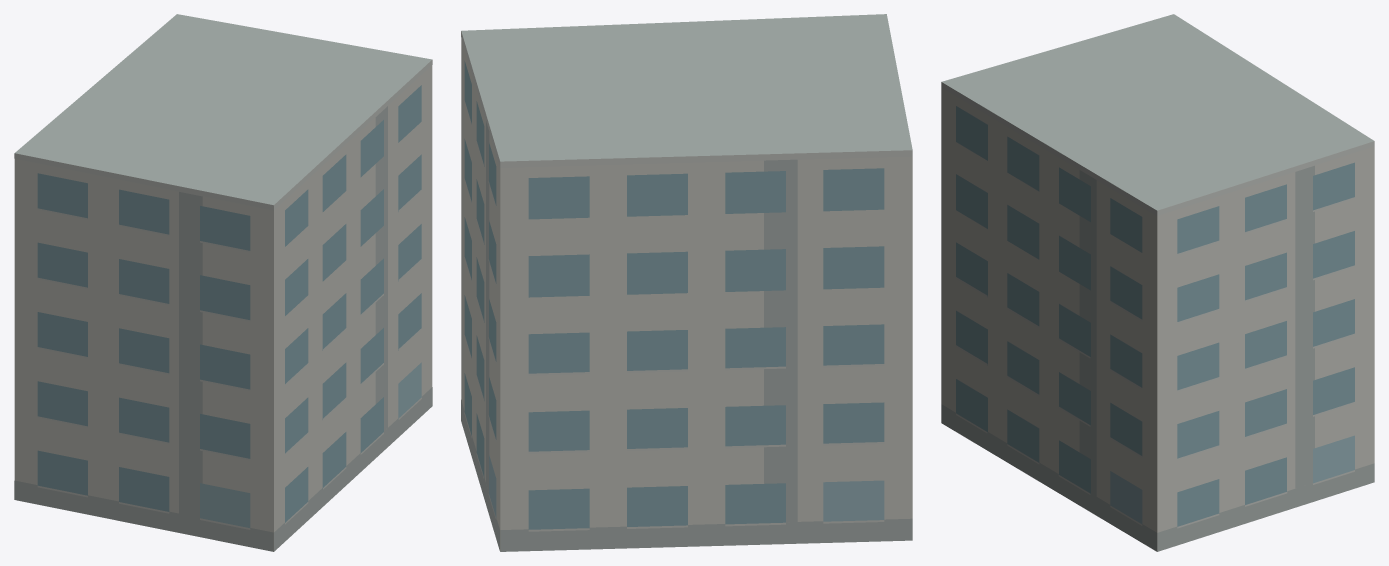
The model's file is survey-upis-32762352.glb.
3 views of the same model, side by side, from view 1: azimuth 30°, elevation 25°; view 2: azimuth 150°, elevation 25°; view 3: azimuth 270°, elevation 25° (orthographic). The views are drawn at different scales.
Visible parts, largest first — view 1: survey-upis-32762352.tmp; view 2: survey-upis-32762352.tmp; view 3: survey-upis-32762352.tmp.
Boxes of the visible parts, bbox=[...] form: survey-upis-32762352.tmp: bbox=[14, 14, 432, 551]; survey-upis-32762352.tmp: bbox=[461, 14, 912, 551]; survey-upis-32762352.tmp: bbox=[941, 14, 1374, 551].
Bounding box in the file's own units: 18.86 × 15.25 × 17.56.
